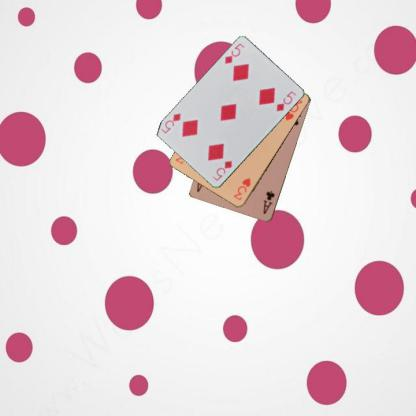3h: (231, 176, 252, 202)
5d: (222, 40, 245, 66), (210, 158, 233, 182)
Ac: (261, 188, 276, 216)
